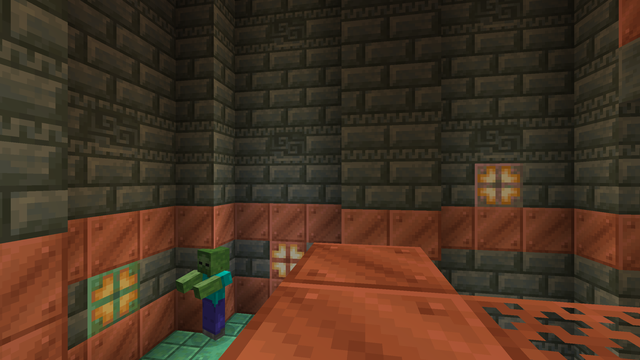zombies: (193, 247, 231, 342)
